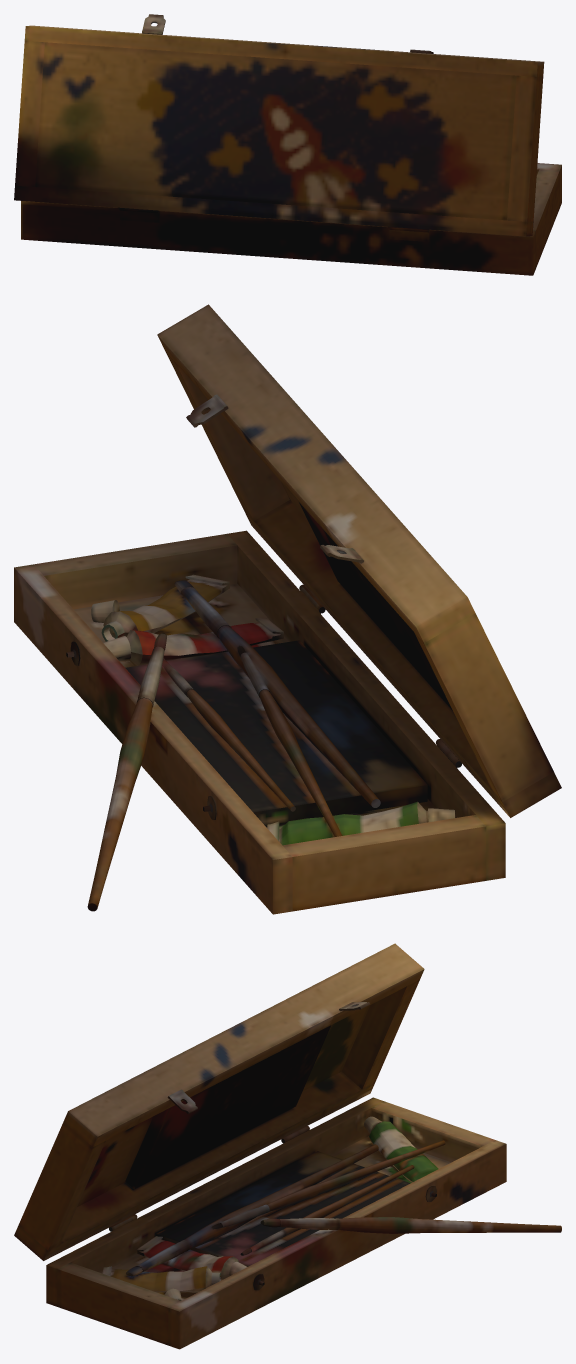
File: G2_DM_pinceau.gltf
3 views of the same model, one above another, from view 1: azimuth 30°, elevation 25°; view 2: azimuth 150°, elevation 25°; view 3: azimuth 270°, elevation 25° (orthographic). The views are drawn at different scales.
Parts seen in each view (by area): view 1: boite_pinceau; view 2: boite_pinceau; view 3: boite_pinceau.
Part boxes in pixels (left/top/right/bottom): boite_pinceau: left=14, top=14, right=561, bottom=275; boite_pinceau: left=14, top=304, right=561, bottom=914; boite_pinceau: left=14, top=943, right=561, bottom=1349.
Bounding box in the file's own units: 0.2984 × 0.1246 × 0.3065.
1 material, 1 textured.
